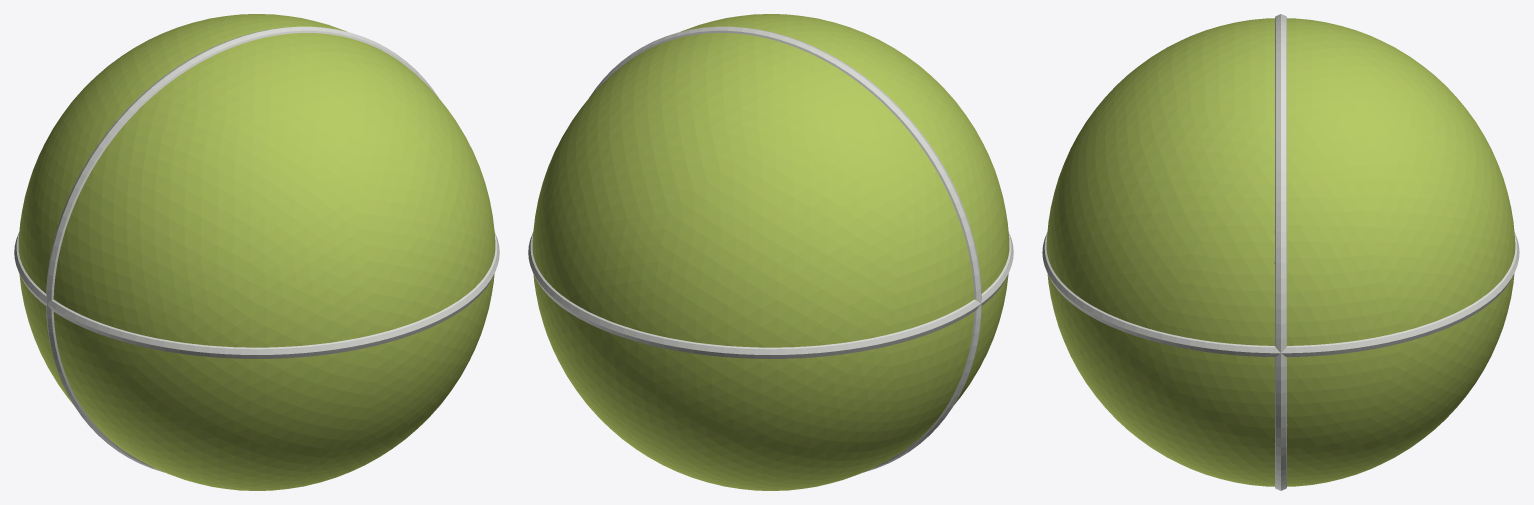
The model's file is doll_tennis_ball.glb.
3 views of the same model, side by side, from view 1: azimuth 30°, elevation 25°; view 2: azimuth 150°, elevation 25°; view 3: azimuth 270°, elevation 25° (orthographic).
Visible parts, largest first — view 1: ball, seam_yz, seam_xy; view 2: ball, seam_yz, seam_xy; view 3: ball, seam_yz, seam_xy.
Boxes of the visible parts, x1,y1,x2,y2 form: ball: [18, 14, 495, 490]; seam_yz: [14, 232, 499, 358]; seam_xy: [46, 26, 438, 472]; ball: [532, 14, 1009, 490]; seam_yz: [528, 232, 1013, 358]; seam_xy: [589, 26, 981, 472]; ball: [1046, 18, 1515, 486]; seam_yz: [1042, 232, 1519, 356]; seam_xy: [1274, 14, 1287, 490].
Size of the model in its own units: 0.0763 by 0.0763 by 0.0763.
